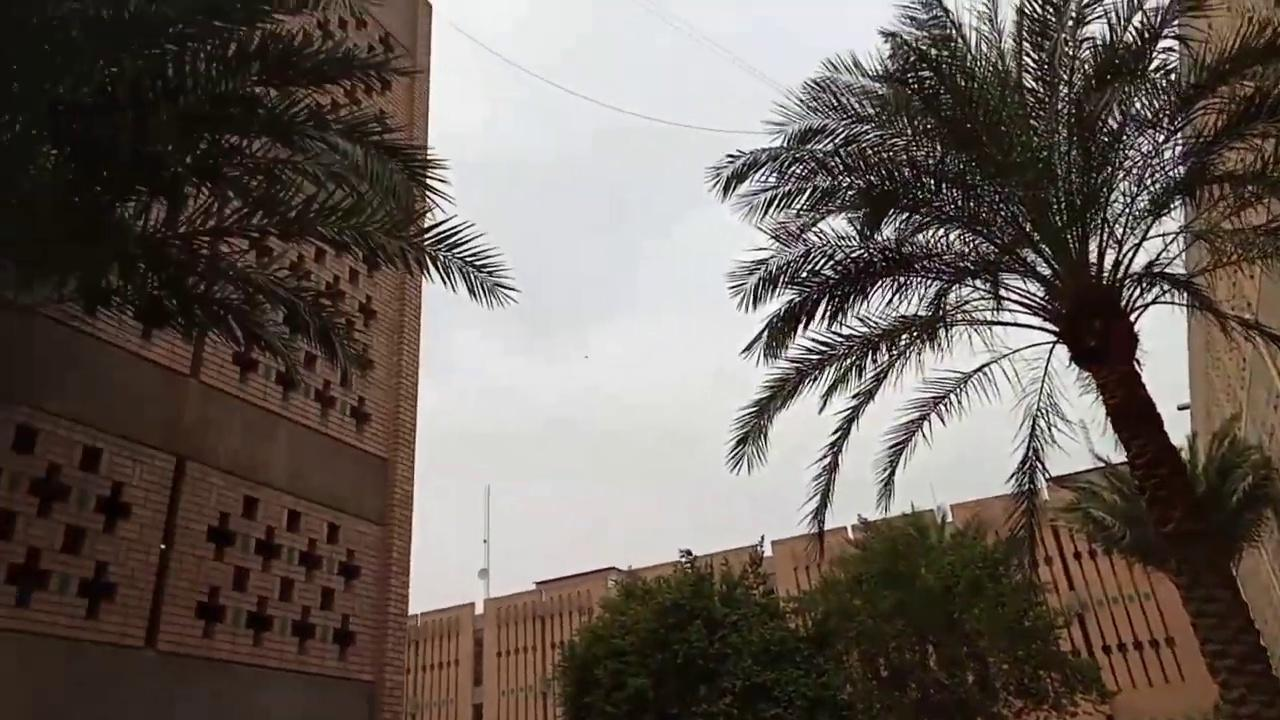tree: (703, 0, 1279, 718), (1, 0, 520, 391), (797, 506, 1119, 718), (543, 533, 838, 718)
